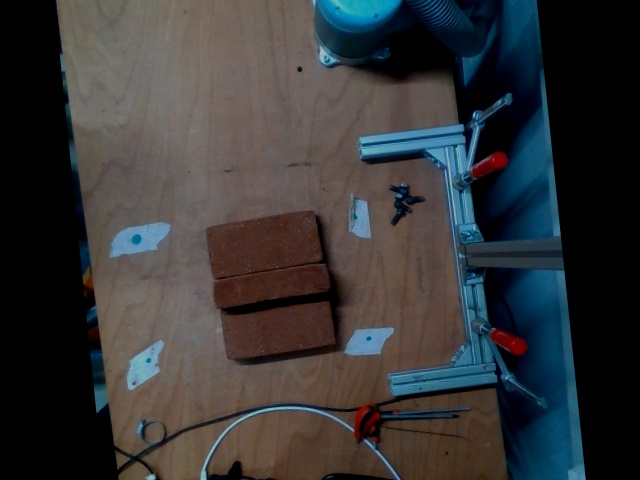brick: (208, 209, 319, 277), (221, 295, 335, 360)
brick-side: (214, 263, 331, 309)
